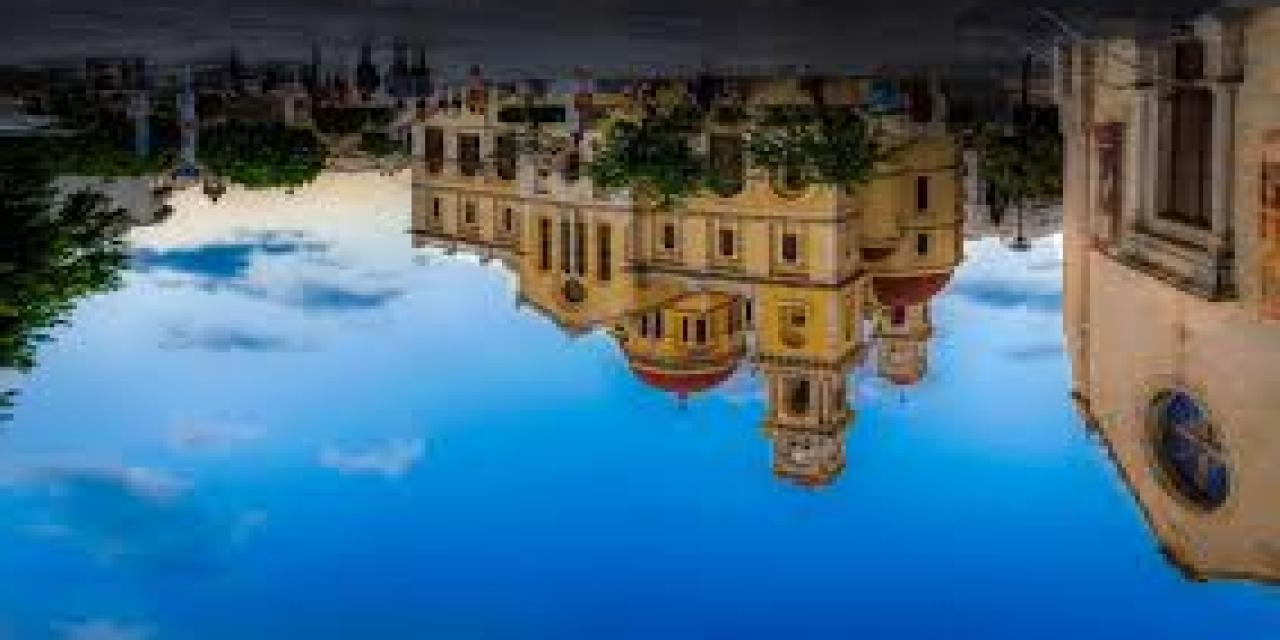Agios Minas: (405, 75, 964, 493)
